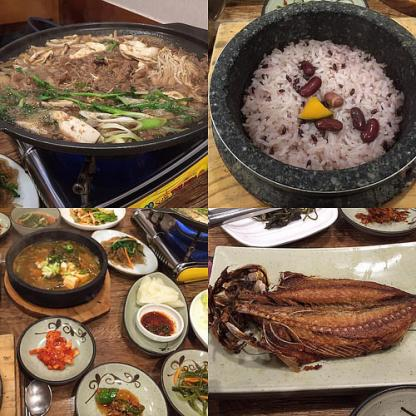Peixe: (217, 267, 416, 374)
